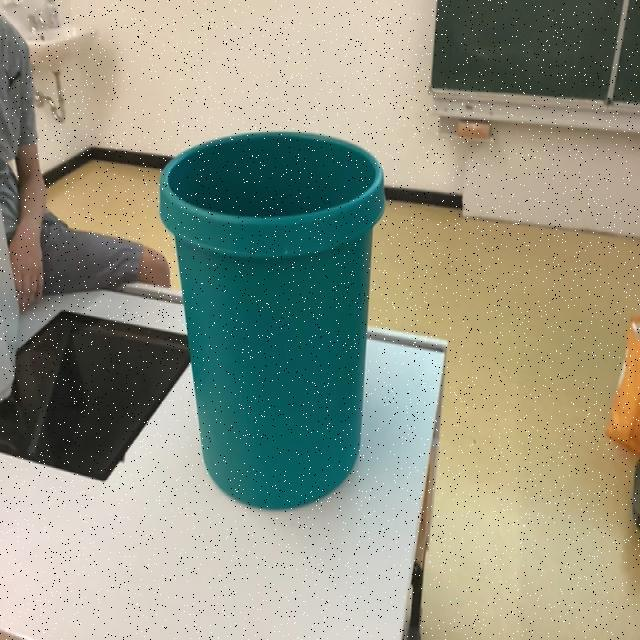garbage container: (148, 114, 401, 522)
